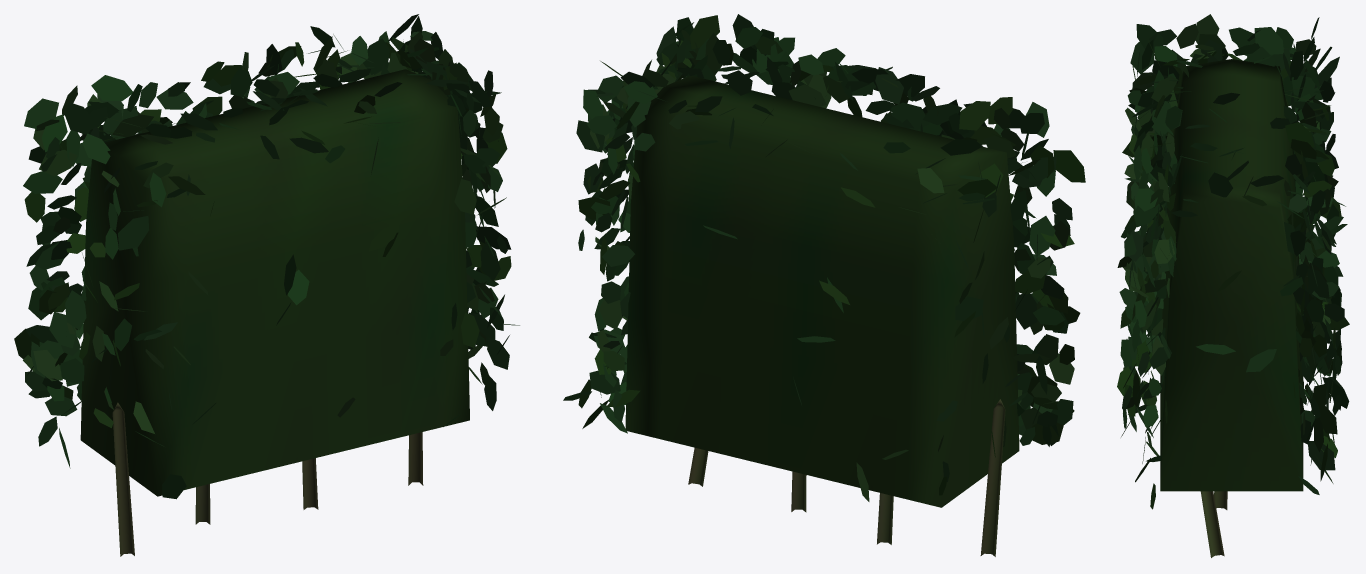
Rendered from SM_Tree_garden_hedge_2.glb.
The picture shows the model from 3 angles, left to right: view 1: azimuth 30°, elevation 25°; view 2: azimuth 150°, elevation 25°; view 3: azimuth 270°, elevation 25°; orthographic projection. The views are drawn at different scales.
Visible parts, largest first — view 1: SM_Tree_garden_hedge_2; view 2: SM_Tree_garden_hedge_2; view 3: SM_Tree_garden_hedge_2.
Boxes of the visible parts, x1,y1,x2,y2 form: SM_Tree_garden_hedge_2: [14, 14, 519, 556]; SM_Tree_garden_hedge_2: [563, 14, 1085, 556]; SM_Tree_garden_hedge_2: [1117, 14, 1349, 557].
Size of the model in its own units: 1.62 by 1.63 by 0.8626.
